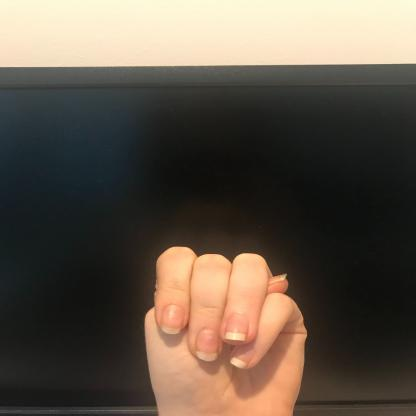M: (137, 243, 315, 415)
